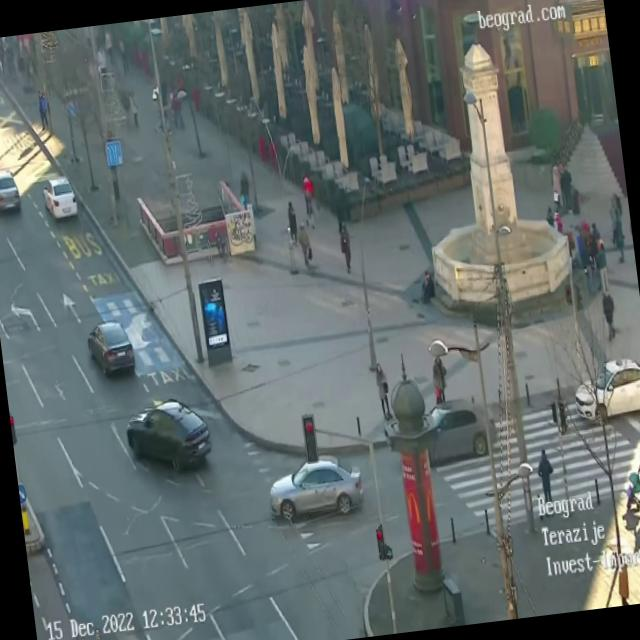car: (122, 393, 214, 478), (264, 453, 366, 525), (402, 401, 501, 466), (569, 354, 640, 424), (85, 317, 136, 378), (40, 174, 78, 220), (0, 168, 20, 214)
